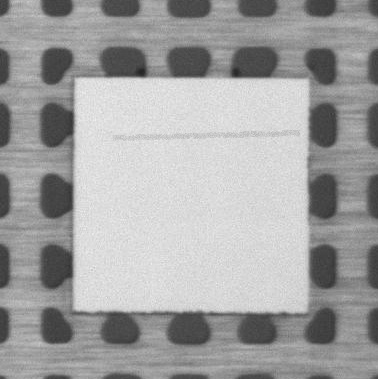DIE_CRACK: (110, 125, 300, 141)
